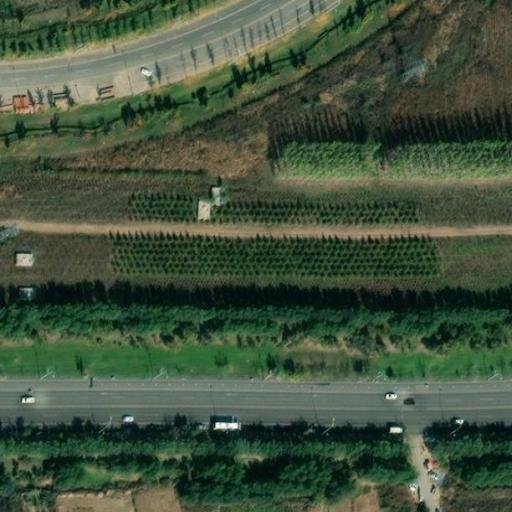building: (16, 284, 36, 302), (198, 201, 209, 219), (16, 254, 32, 265)
